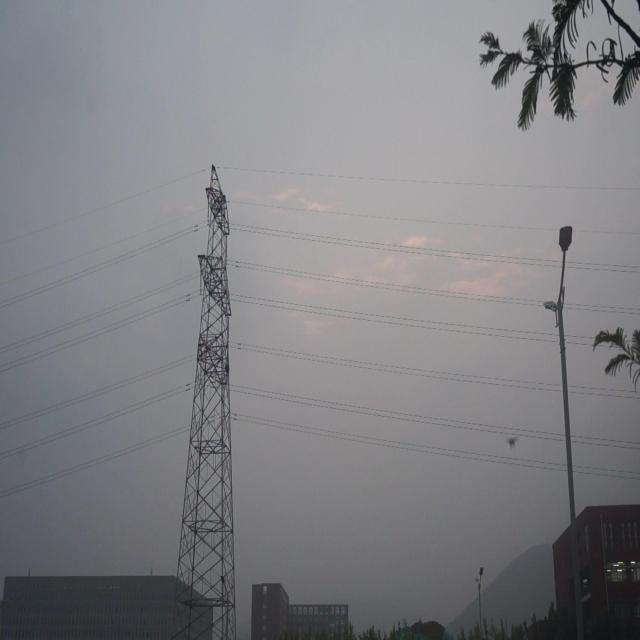drone: (505, 434, 519, 452)
